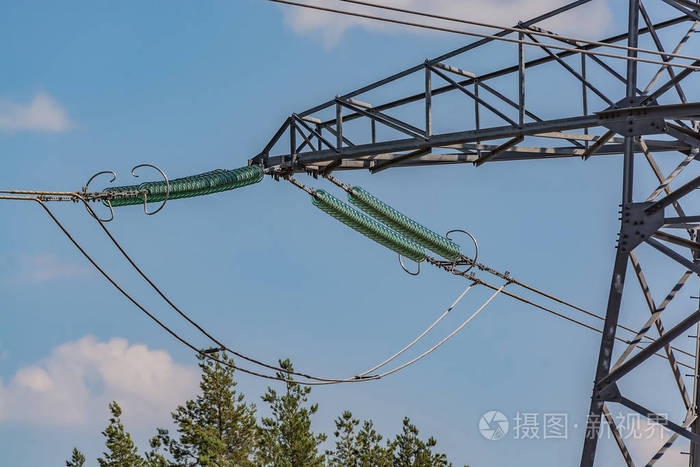insulator: (313, 184, 465, 266), (99, 163, 265, 208)
